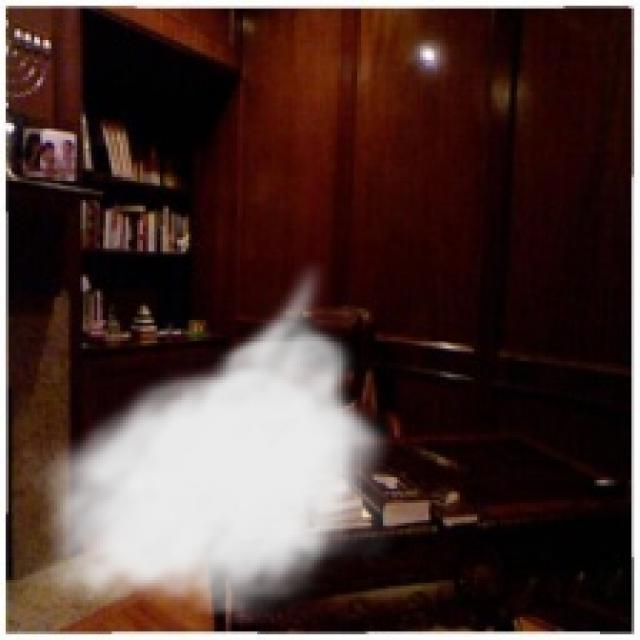Smoke: (20, 257, 397, 626)
